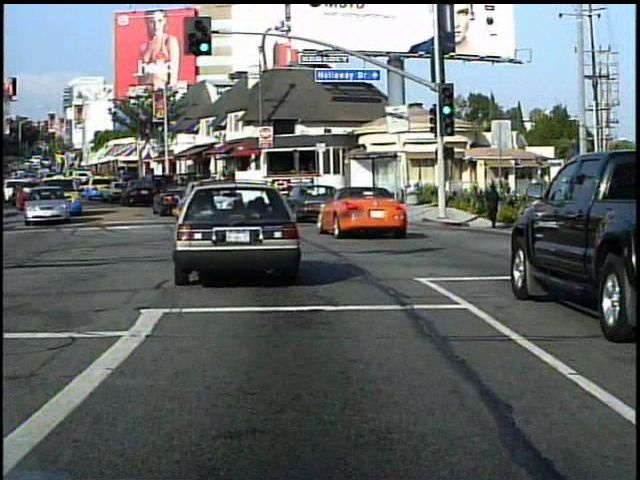person: (568, 185, 591, 246), (482, 182, 505, 229)
